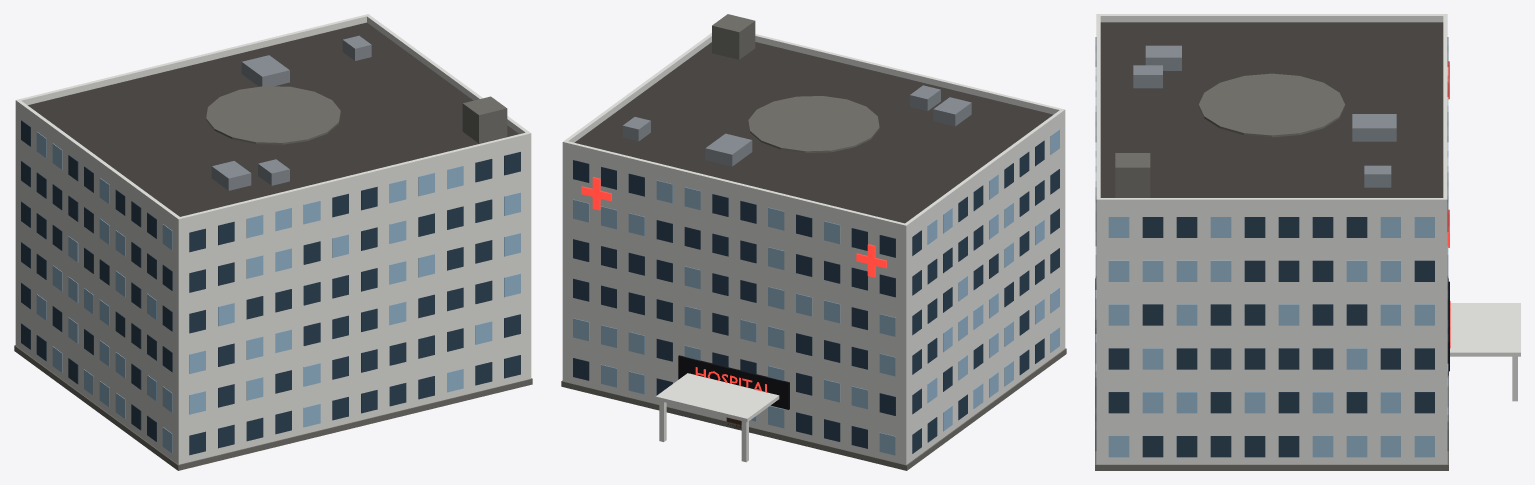
File: bld_hospital.glb
The picture shows the model from 3 angles, left to right: view 1: azimuth 30°, elevation 25°; view 2: azimuth 150°, elevation 25°; view 3: azimuth 270°, elevation 25°; orthographic projection. The views are drawn at different scales.
Parts seen in each view (by area): view 1: bld_hospital__mesh; view 2: bld_hospital__mesh, bld_hospital__signboard; view 3: bld_hospital__mesh.
Boxes of the visible parts, <box> form: bld_hospital__mesh: <box>14,14,532,470</box>; bld_hospital__mesh: <box>561,14,1066,470</box>; bld_hospital__signboard: <box>678,355,789,409</box>; bld_hospital__mesh: <box>1095,14,1520,470</box>.
Bounding box in the file's own units: 30.16 × 22.2 × 29.08.
